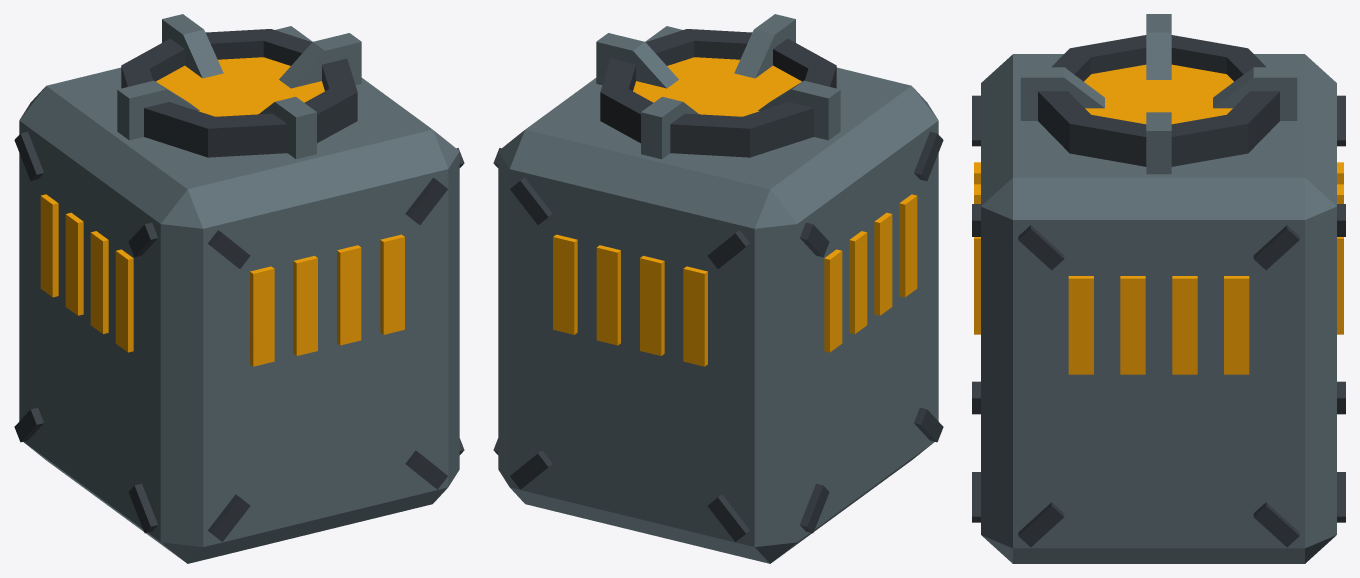
Rendered from prop16.FBX.
The picture shows the model from 3 angles, left to right: view 1: azimuth 30°, elevation 25°; view 2: azimuth 150°, elevation 25°; view 3: azimuth 270°, elevation 25°; orthographic projection. The views are drawn at different scales.
Visible parts, largest first — view 1: prop16; view 2: prop16; view 3: prop16.
Part boxes in pixels (left/top/right/bottom): prop16: left=14, top=14, right=464, bottom=563; prop16: left=493, top=14, right=943, bottom=563; prop16: left=972, top=14, right=1345, bottom=563.
Bounding box in the file's own units: 8.27 × 10.49 × 8.27.
